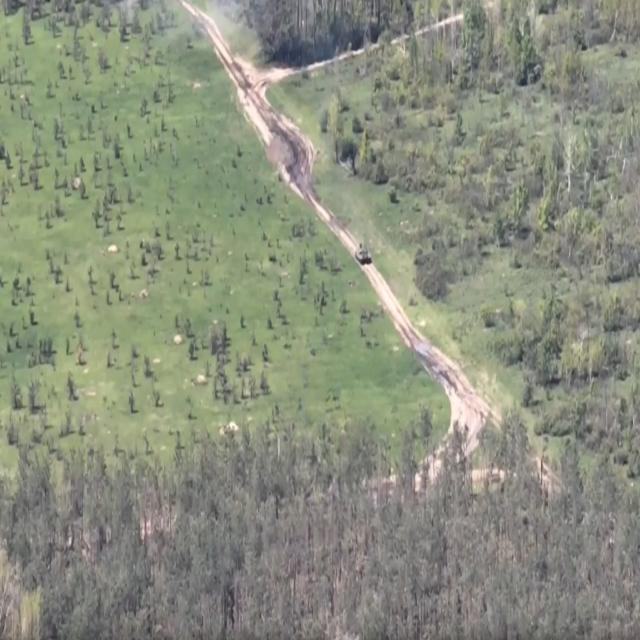MBT: (355, 243, 374, 269)
